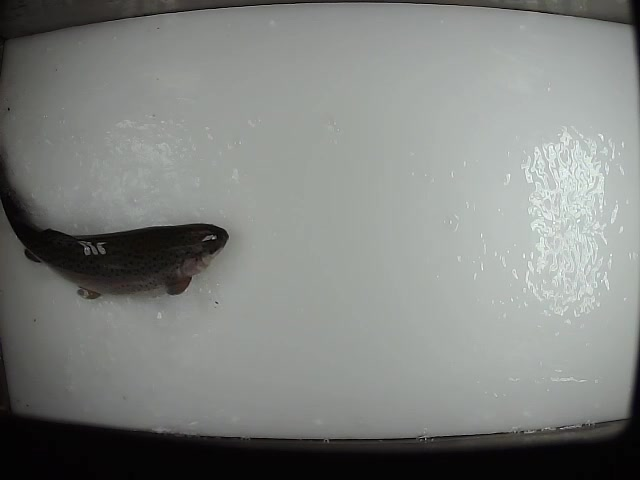fish: (1, 149, 229, 301)
